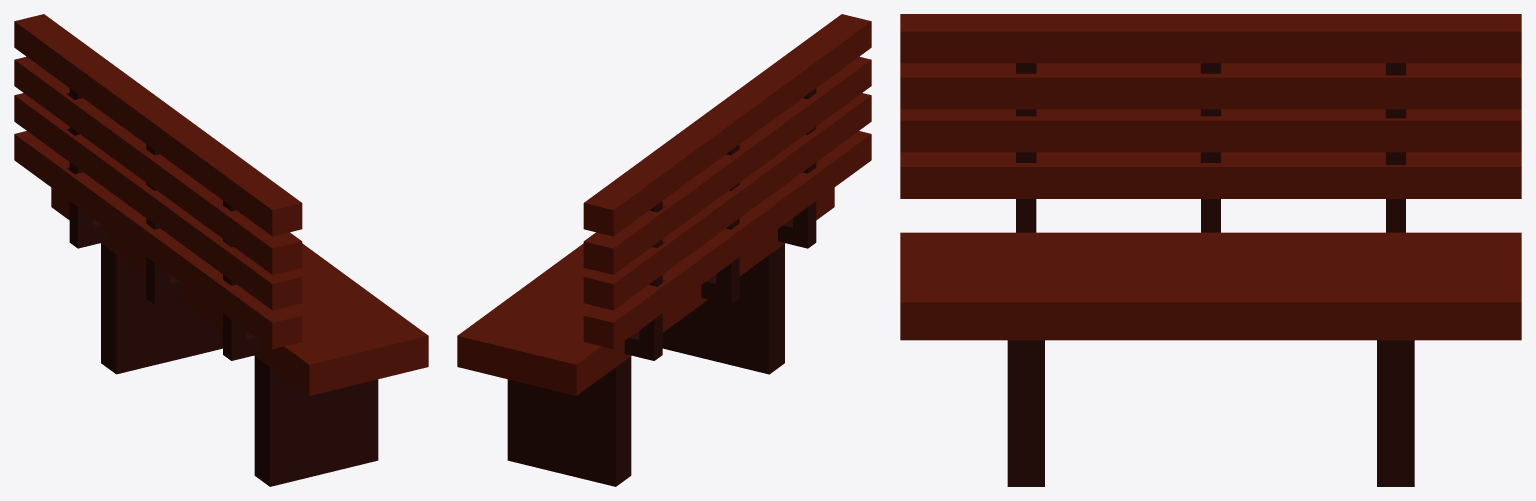
The model's file is Bench.FBX.
The picture shows the model from 3 angles, left to right: view 1: azimuth 30°, elevation 25°; view 2: azimuth 150°, elevation 25°; view 3: azimuth 270°, elevation 25°; orthographic projection. The views are drawn at different scales.
Visible parts, largest first — view 1: Box001; view 2: Box001; view 3: Box001.
Boxes of the visible parts, <box> form: Box001: <box>14,14,428,486</box>; Box001: <box>457,14,871,486</box>; Box001: <box>900,14,1521,486</box>.
Bounding box in the file's own units: 0.5242 × 1.02 × 1.5.
